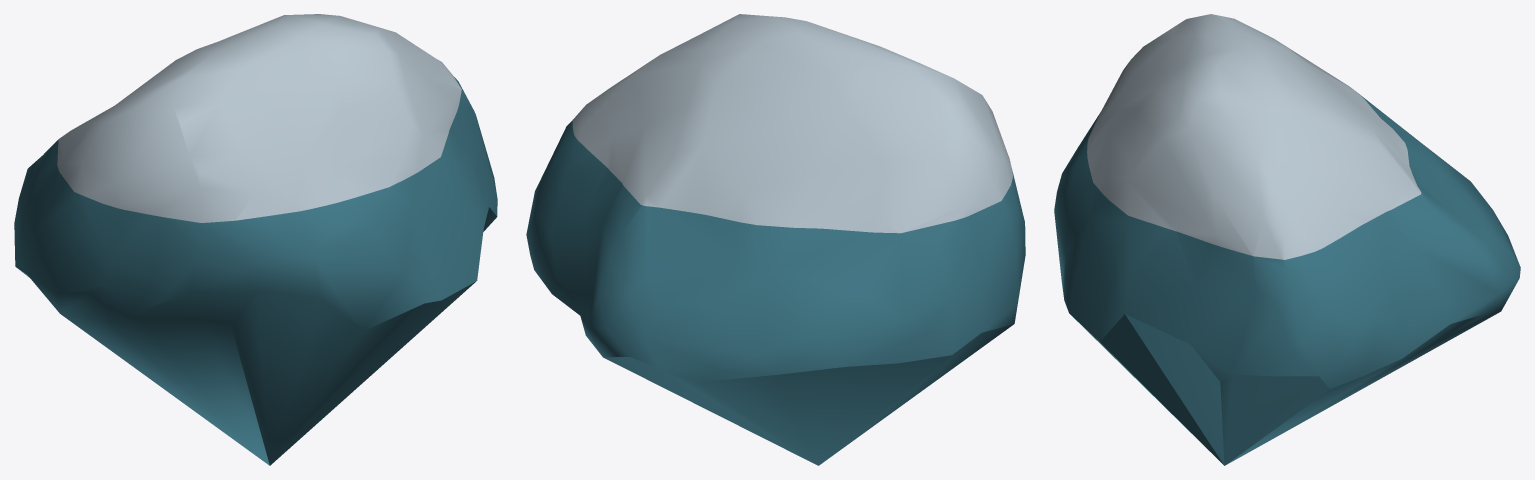
The model's file is growler_b.glb.
3 renders of one model, left to right at view 1: azimuth 30°, elevation 25°; view 2: azimuth 150°, elevation 25°; view 3: azimuth 270°, elevation 25°, orthographic. The views are drawn at different scales.
Visible parts, largest first — view 1: growler_b; view 2: growler_b; view 3: growler_b.
Part boxes in pixels (bbox=[...]): growler_b: bbox=[14, 14, 497, 465]; growler_b: bbox=[526, 14, 1025, 465]; growler_b: bbox=[1054, 14, 1520, 465].
Size of the model in its own units: 2.4 by 2.2 by 2.19.
